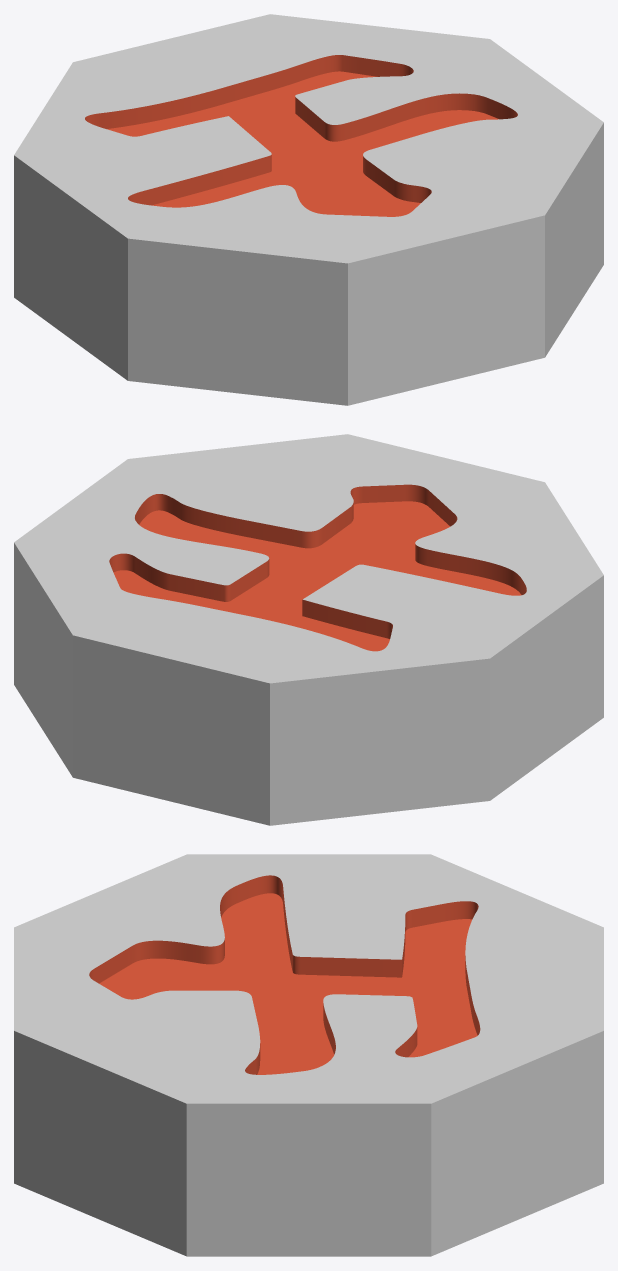
3 renders of one model, top to bottom at view 1: azimuth 30°, elevation 25°; view 2: azimuth 150°, elevation 25°; view 3: azimuth 270°, elevation 25°, orthographic. The views are drawn at different scales.
Visible parts, largest first — view 1: 한_사; view 2: 한_사; view 3: 한_사.
Boxes of the visible parts, box(x1,y1,x2,y2) form: 한_사: box(14, 14, 603, 405); 한_사: box(14, 434, 603, 825); 한_사: box(14, 854, 603, 1256).
Bounding box in the file's own units: 2100 × 600 × 2100.
